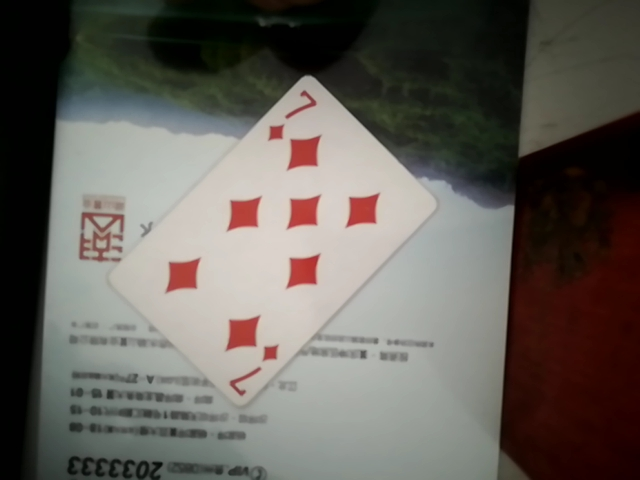fk 7: (103, 73, 425, 408)
